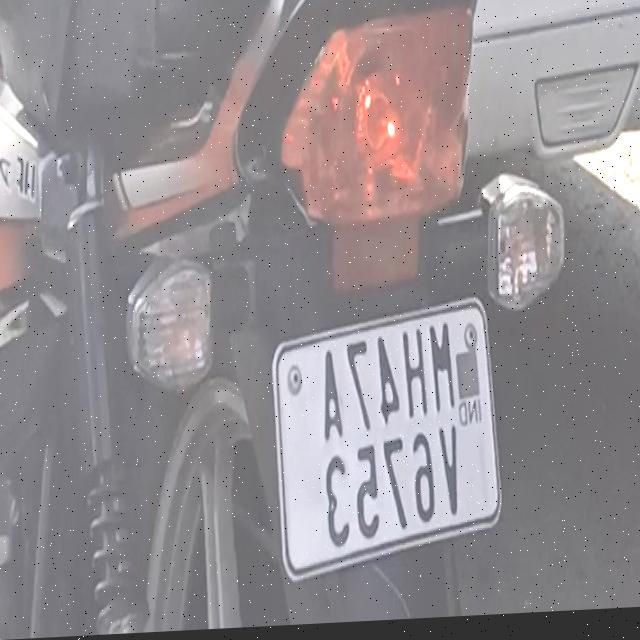plate: (274, 302, 502, 591)
